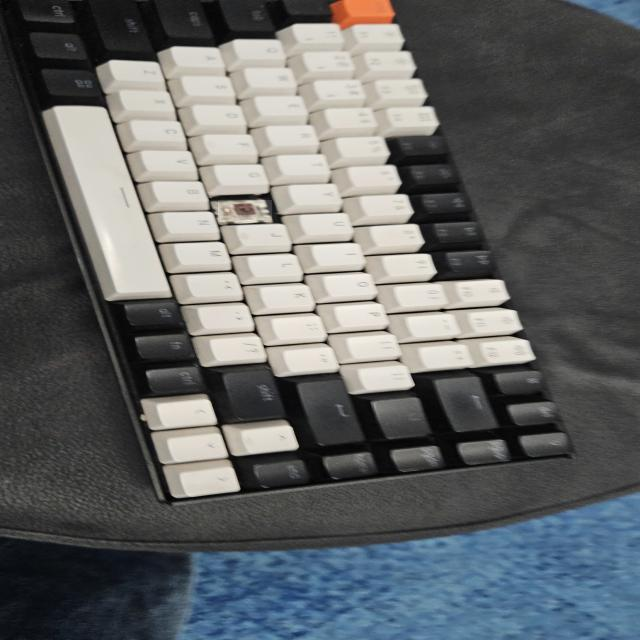C: (218, 200, 272, 222)
